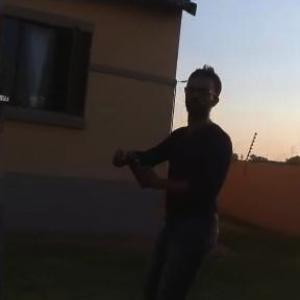follow: (108, 59, 236, 299)
